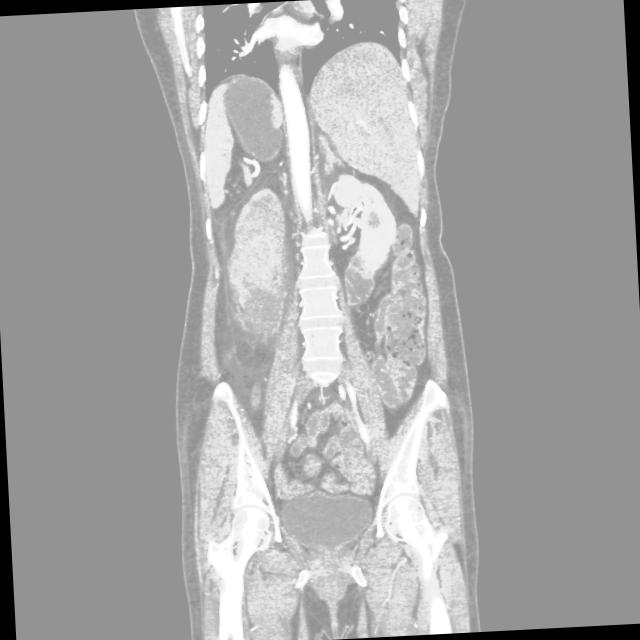TUMOR: (154, 137, 577, 446)
